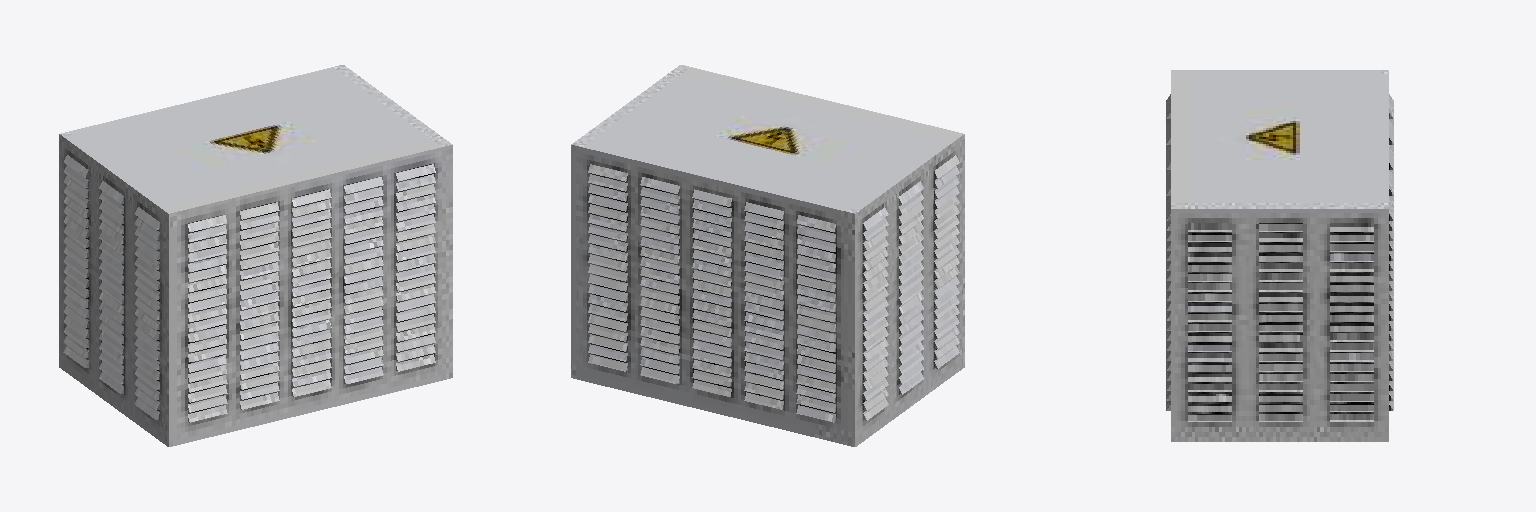
The picture shows the model from 3 angles: view 1: azimuth 30°, elevation 25°; view 2: azimuth 150°, elevation 25°; view 3: azimuth 270°, elevation 25°; orthographic projection.
Visible parts, largest first — view 1: acdc; view 2: acdc; view 3: acdc.
Boxes of the visible parts, x1=… form: acdc: x1=59, y1=65, x2=452, y2=446; acdc: x1=571, y1=65, x2=964, y2=446; acdc: x1=1166, y1=70, x2=1393, y2=441.
Bounding box in the file's own units: 61.59 × 47.14 × 41.59.
1 materials, 1 textured.